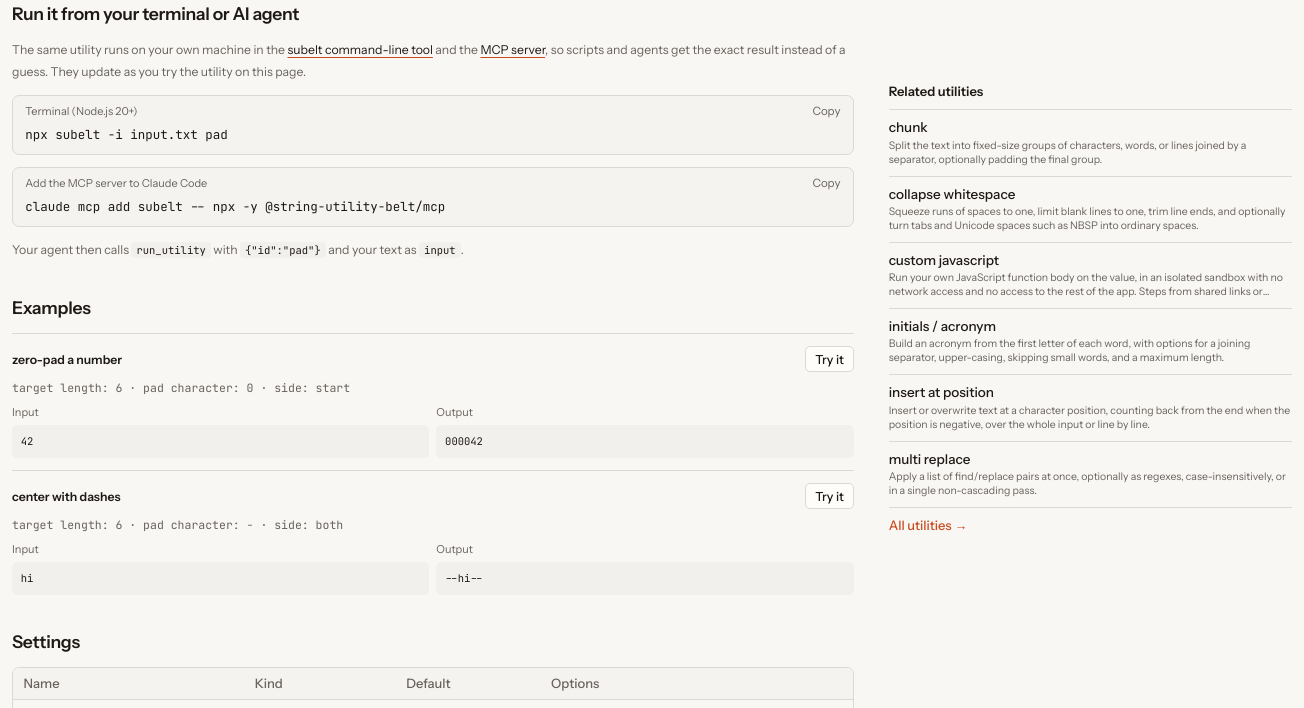
Test case: UtilityDocPage › loads a worked example into the playground
(page scrolled)
Step 1. Click the button with aria-label "try example: zero-pad a number" → (830, 359), box [805, 346, 854, 372]
(page scrolled)
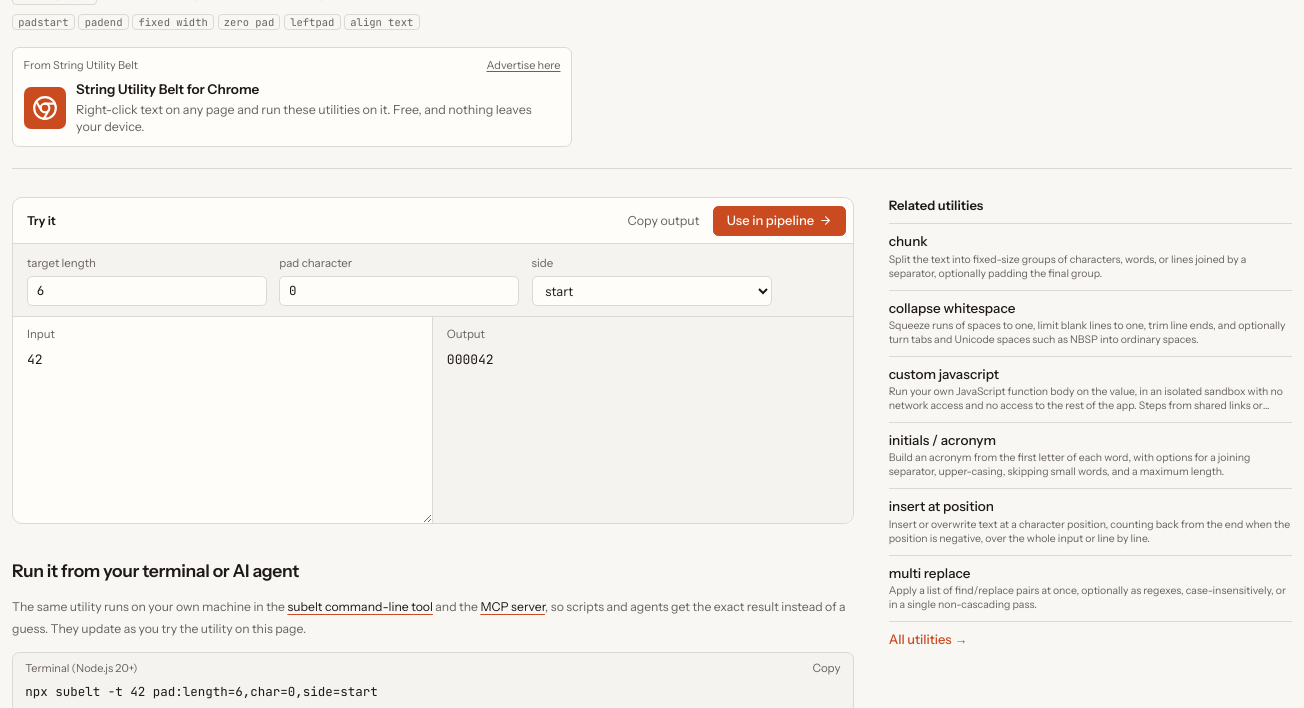
Result: the text box named "playground input" holds "42" at [13, 343, 432, 523]
Result: the message named "playground output" reads "000042" at [447, 350, 494, 368]
